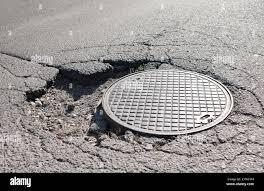closed manhole-not overflowing-: (49, 61, 237, 143)
